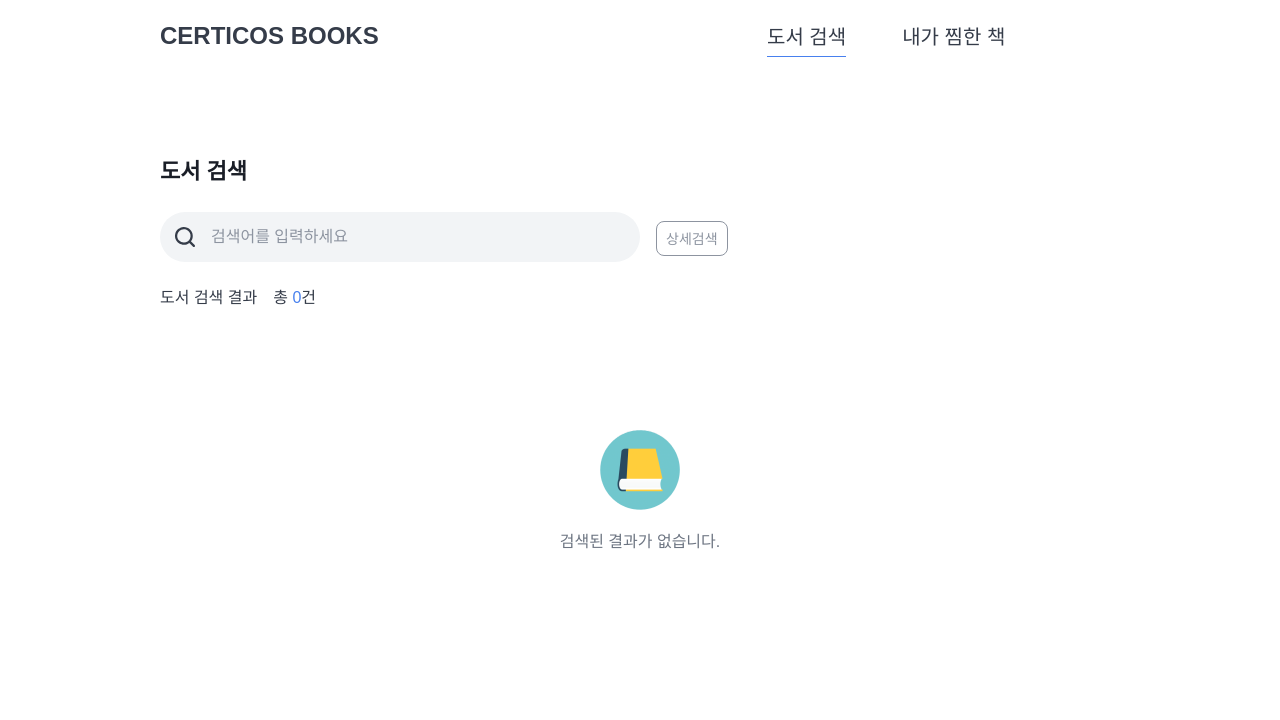
Scenario: 검색창 › 방향키로 기록을 고르고 Enter를 누르면 고른 기록으로 한 번만 검색한다
Step 1. Click the dropdown labelled "검색어" → (426, 237), box top-left (211, 212), bottom-right (640, 262)
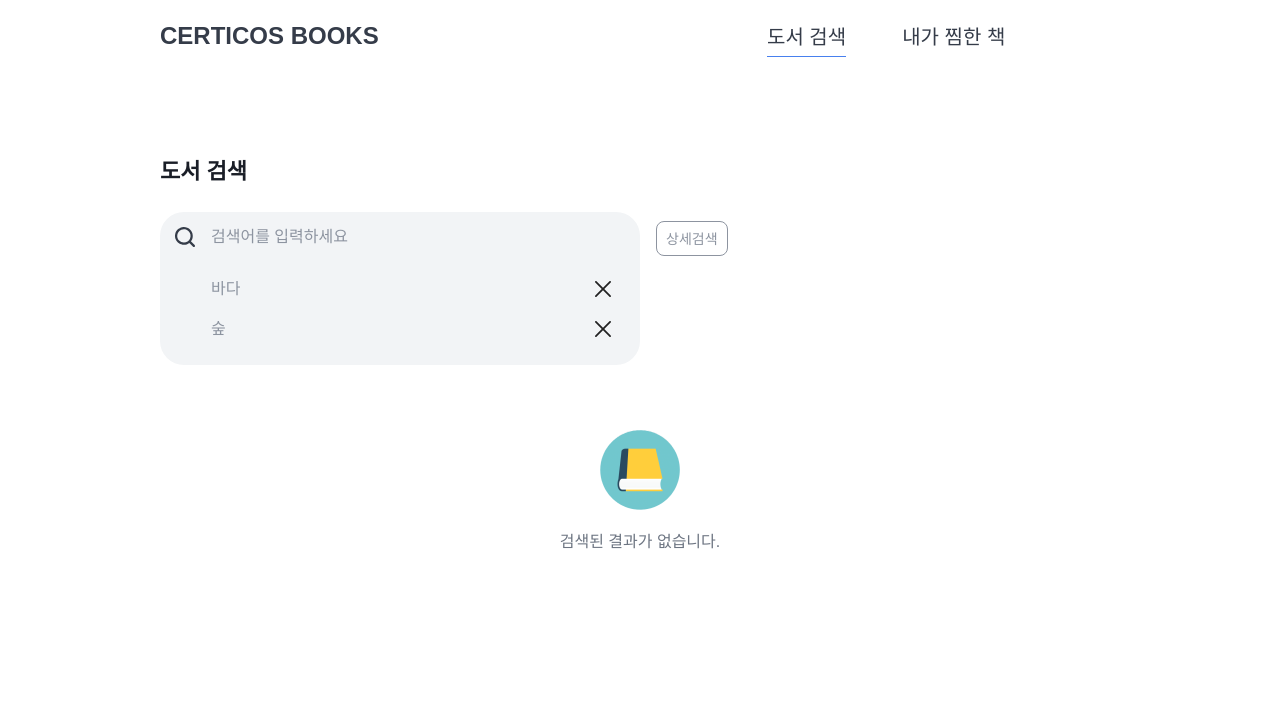
Step 2. Press Arrowdown Arrowdown
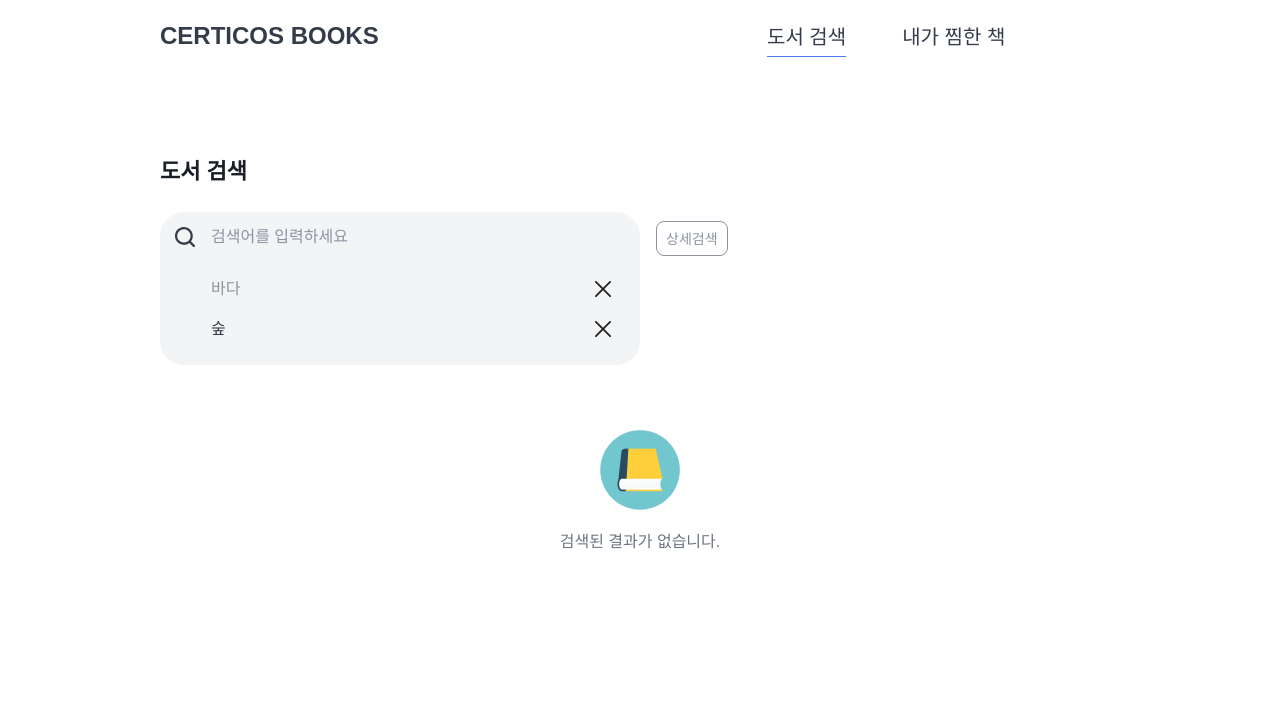
Result: the option "숲" is selected at top-left (211, 317), bottom-right (615, 341)
Step 3. Press Enter
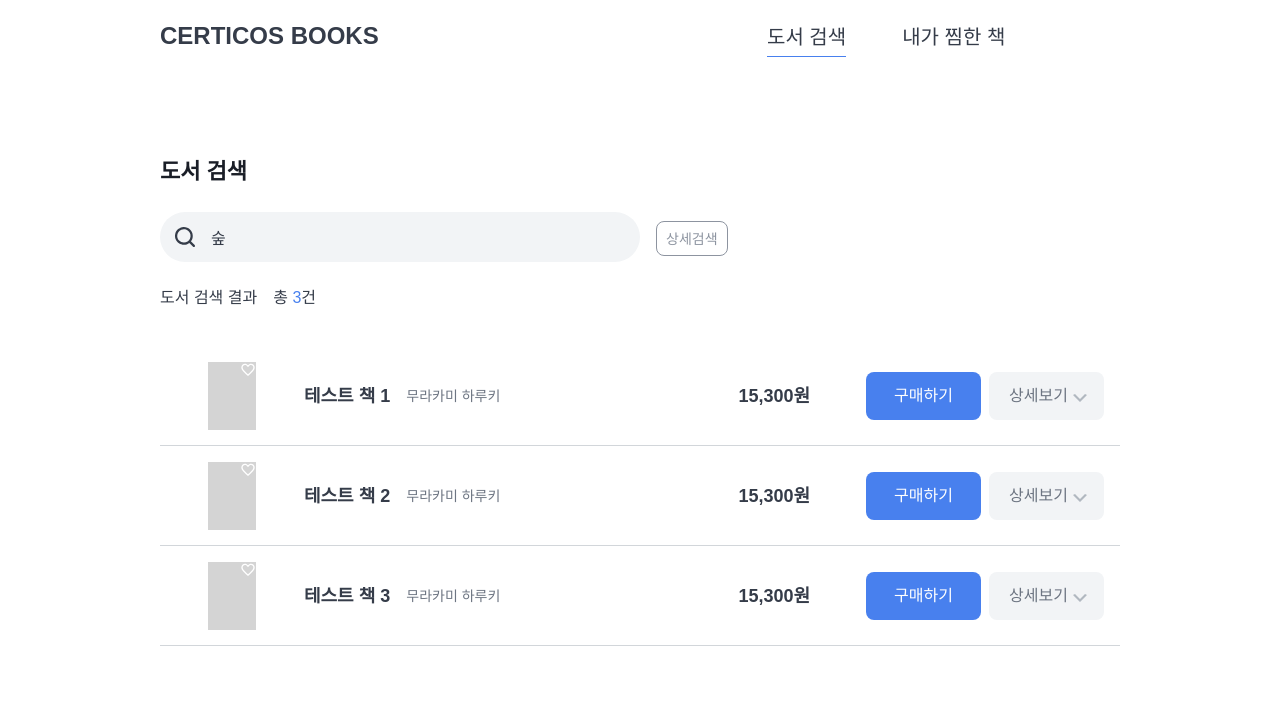
Result: the heading "테스트 책 1" is shown at top-left (304, 387), bottom-right (390, 405)
